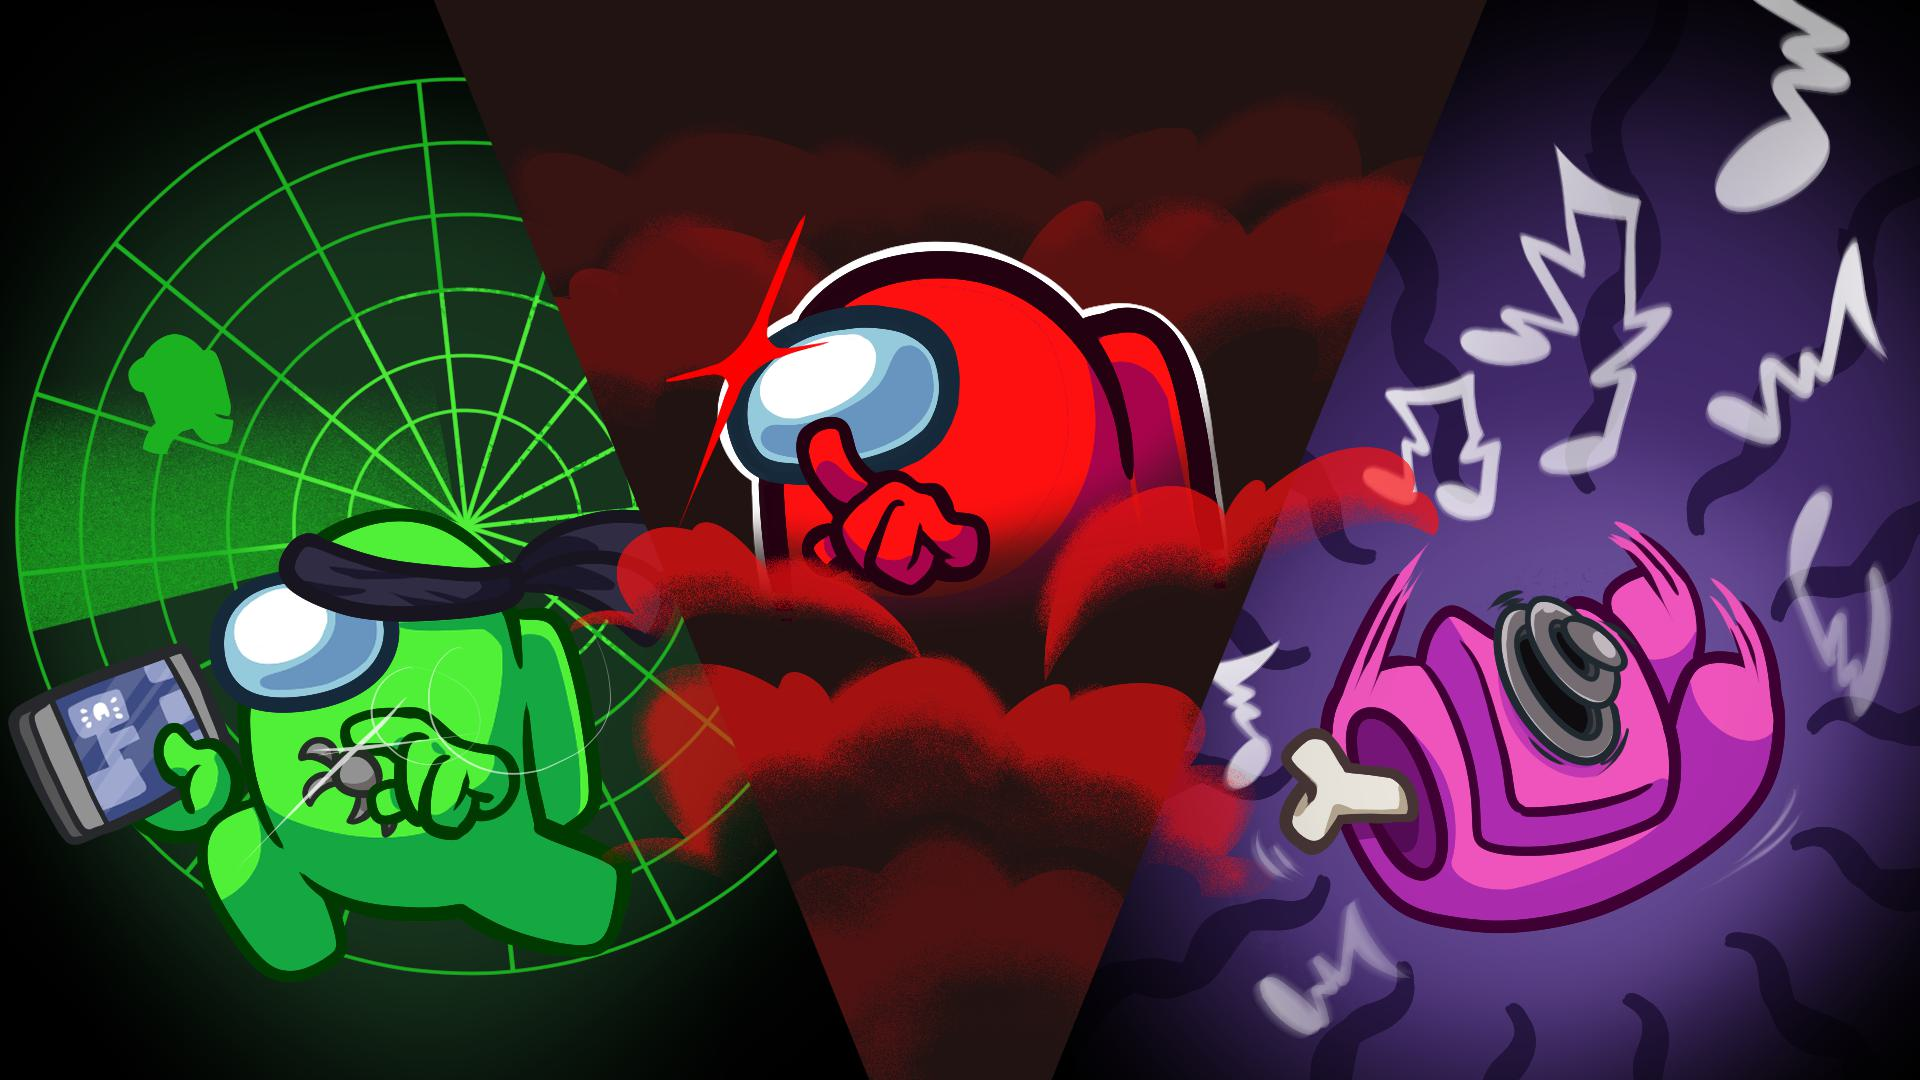amongus: (736, 241, 1229, 645), (198, 512, 624, 972)
